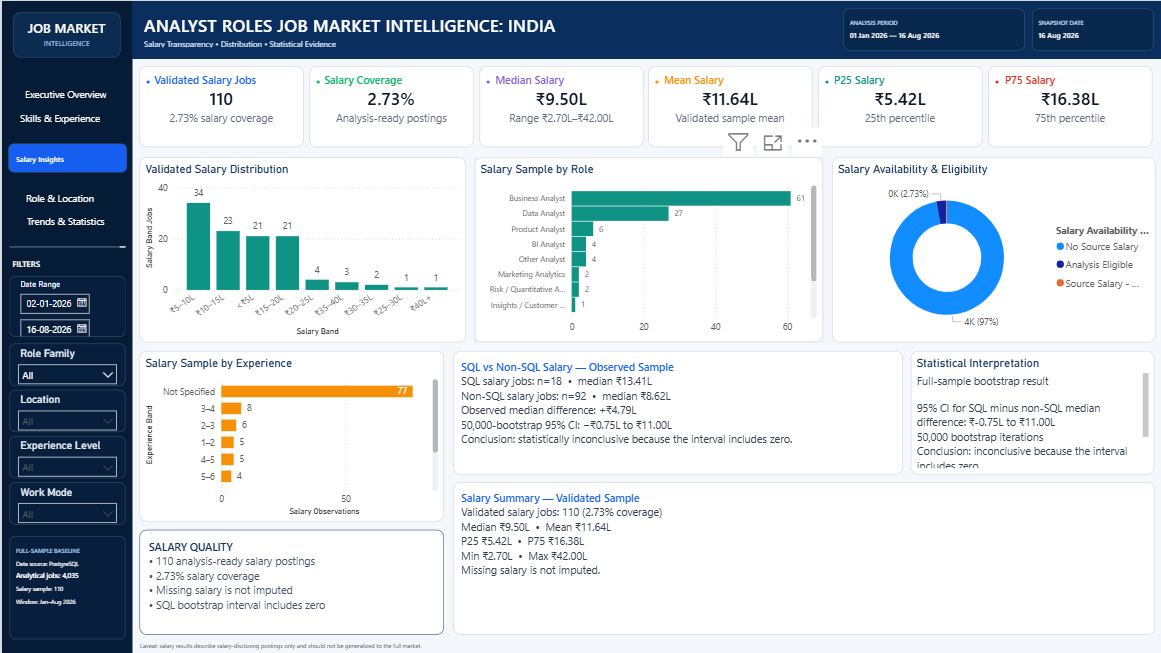

The dashboard page shown, as its layout file describes it:
{"tool":"powerbi","page":{"name":"Salary Insights ","canvas":[1600,900],"ordinal":2},"visuals":[{"type":"textbox","box":[0,0,180,900],"z":0},{"type":"textbox","box":[16,16,148,62],"z":1000},{"type":"textbox","box":[8,197,164,40],"z":2000},{"type":"textbox","box":[10,338,160,2],"z":3000},{"type":"textbox","box":[10,348,160,28],"z":4000},{"type":"slicer","fields":{"Values":["Jobs.Posted Date"]},"box":[10,380,160,84],"z":5000},{"type":"slicer","fields":{"Values":["Jobs.Role Family"]},"box":[10,472,160,58],"z":6000},{"type":"slicer","fields":{"Values":["Jobs.Specific City"]},"box":[10,536,160,58],"z":7000},{"type":"slicer","fields":{"Values":["Jobs.Experience Band"]},"box":[10,600,160,58],"z":8000},{"type":"slicer","fields":{"Values":["Jobs.Work Mode"]},"box":[10,664,160,58],"z":9000},{"type":"textbox","box":[10,738,160,142],"z":10000},{"type":"textbox","box":[180,0,1420,80],"z":11000},{"type":"textbox","box":[1160,10,250,58],"z":12000},{"type":"textbox","box":[1420,10,168,58],"z":13000},{"type":"textbox","box":[190,90,226,112],"z":14000},{"type":"textbox","box":[424,90,226,112],"z":15000},{"type":"textbox","box":[658,90,226,112],"z":16000},{"type":"textbox","box":[892,90,226,112],"z":17000},{"type":"textbox","box":[1126,90,226,112],"z":18000},{"type":"textbox","box":[1360,90,226,112],"z":19000},{"type":"columnChart","title":"Validated Salary Distribution","fields":{"Category":["Jobs.Salary Band"],"Y":["Jobs.Salary Band Jobs"]},"box":[190,215,450,255],"z":20000},{"type":"barChart","title":"Salary Sample by Role","fields":{"Category":["Jobs.Role Family"],"Y":["Jobs.Salary Observations"]},"box":[652,215,480,255],"z":21000},{"type":"donutChart","title":"Salary Availability & Eligibility","fields":{"Category":["Jobs.Salary Availability Group"],"Y":["Jobs.Analytical Vacancies"]},"box":[1144,215,446,255],"z":22000},{"type":"barChart","title":"Salary Sample by Experience","fields":{"Category":["Jobs.Experience Band"],"Y":["Jobs.Salary Observations"]},"box":[190,482,420,235],"z":23000},{"type":"textbox","box":[622,482,620,170],"z":24000},{"type":"textbox","title":"Statistical Interpretation","box":[1254,482,336,170],"z":25000},{"type":"textbox","box":[622,664,968,210],"z":26000},{"type":"textbox","box":[190,729,420,145],"z":27000},{"type":"textbox","box":[190,878,1400,18],"z":28000},{"type":"actionButton","box":[0,112,176,32],"z":29000},{"type":"actionButton","box":[0,144,160,32],"z":30000},{"type":"actionButton","box":[0,256,160,32],"z":31000},{"type":"actionButton","box":[0,288,176,32],"z":32000}]}

Visuals, with their boxes in screenshot pixels (x1, y1, x2, y2), scaled from the page's 1600x900 canvas onto the 1161x653 screenshot:
textbox: {"x1": 0, "y1": 0, "x2": 131, "y2": 652}
textbox: {"x1": 12, "y1": 12, "x2": 119, "y2": 57}
textbox: {"x1": 6, "y1": 143, "x2": 125, "y2": 172}
textbox: {"x1": 7, "y1": 245, "x2": 123, "y2": 247}
textbox: {"x1": 7, "y1": 252, "x2": 123, "y2": 273}
slicer - Jobs.Posted Date: {"x1": 7, "y1": 276, "x2": 123, "y2": 337}
slicer - Jobs.Role Family: {"x1": 7, "y1": 342, "x2": 123, "y2": 385}
slicer - Jobs.Specific City: {"x1": 7, "y1": 389, "x2": 123, "y2": 431}
slicer - Jobs.Experience Band: {"x1": 7, "y1": 435, "x2": 123, "y2": 477}
slicer - Jobs.Work Mode: {"x1": 7, "y1": 482, "x2": 123, "y2": 524}
textbox: {"x1": 7, "y1": 535, "x2": 123, "y2": 638}
textbox: {"x1": 131, "y1": 0, "x2": 1160, "y2": 58}
textbox: {"x1": 842, "y1": 7, "x2": 1023, "y2": 49}
textbox: {"x1": 1030, "y1": 7, "x2": 1152, "y2": 49}
textbox: {"x1": 138, "y1": 65, "x2": 302, "y2": 147}
textbox: {"x1": 308, "y1": 65, "x2": 472, "y2": 147}
textbox: {"x1": 477, "y1": 65, "x2": 641, "y2": 147}
textbox: {"x1": 647, "y1": 65, "x2": 811, "y2": 147}
textbox: {"x1": 817, "y1": 65, "x2": 981, "y2": 147}
textbox: {"x1": 987, "y1": 65, "x2": 1151, "y2": 147}
"Validated Salary Distribution" columnChart: {"x1": 138, "y1": 156, "x2": 464, "y2": 341}
"Salary Sample by Role" barChart: {"x1": 473, "y1": 156, "x2": 821, "y2": 341}
"Salary Availability & Eligibility" donutChart: {"x1": 830, "y1": 156, "x2": 1154, "y2": 341}
"Salary Sample by Experience" barChart: {"x1": 138, "y1": 350, "x2": 443, "y2": 520}
textbox: {"x1": 451, "y1": 350, "x2": 901, "y2": 473}
"Statistical Interpretation" textbox: {"x1": 910, "y1": 350, "x2": 1154, "y2": 473}
textbox: {"x1": 451, "y1": 482, "x2": 1154, "y2": 634}
textbox: {"x1": 138, "y1": 529, "x2": 443, "y2": 634}
textbox: {"x1": 138, "y1": 637, "x2": 1154, "y2": 650}
actionButton: {"x1": 0, "y1": 81, "x2": 128, "y2": 104}
actionButton: {"x1": 0, "y1": 104, "x2": 116, "y2": 128}
actionButton: {"x1": 0, "y1": 186, "x2": 116, "y2": 209}
actionButton: {"x1": 0, "y1": 209, "x2": 128, "y2": 232}
